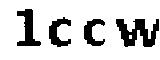1: (12, 5, 42, 51)
c: (49, 14, 73, 49), (82, 17, 108, 47)
w: (111, 13, 160, 50)
